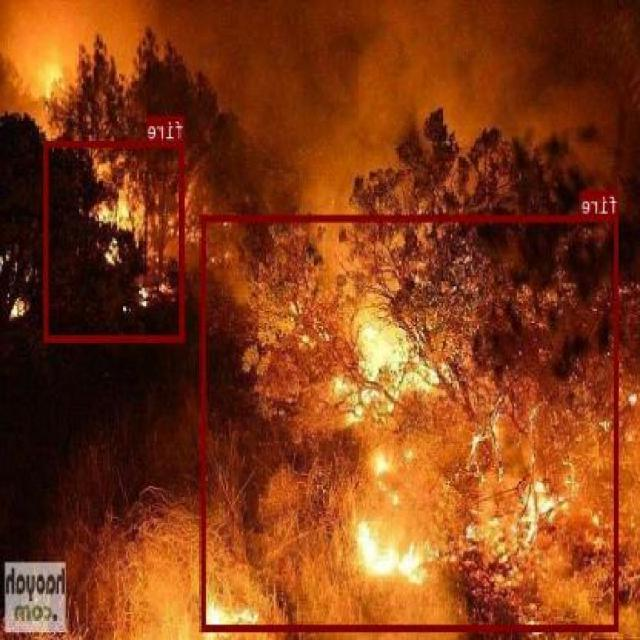fire: (203, 213, 620, 630), (45, 139, 186, 341)
